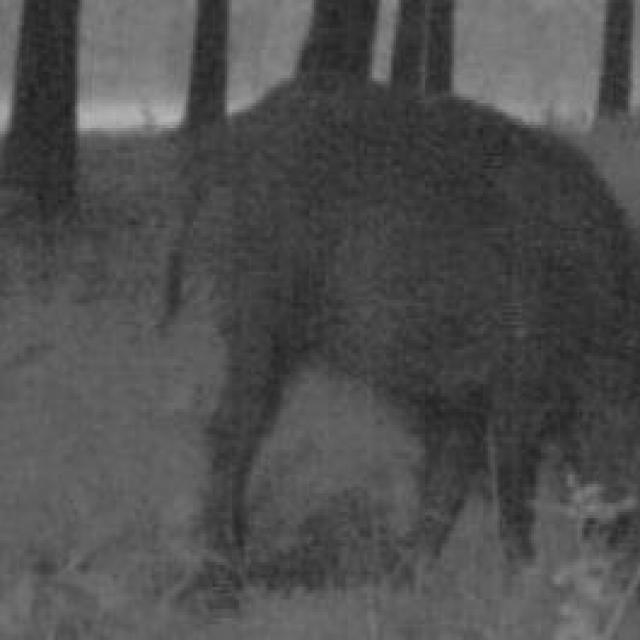pig: (161, 0, 640, 608)
